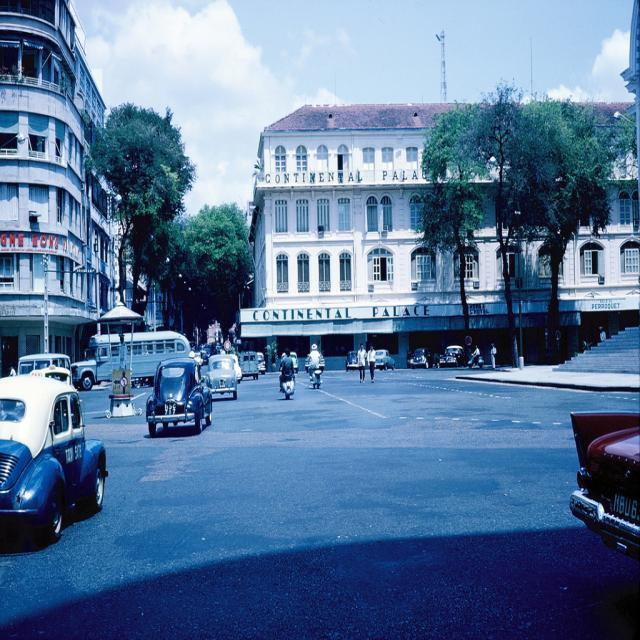car: (145, 360, 213, 433), (206, 352, 235, 398), (408, 345, 438, 368), (436, 344, 464, 365)
